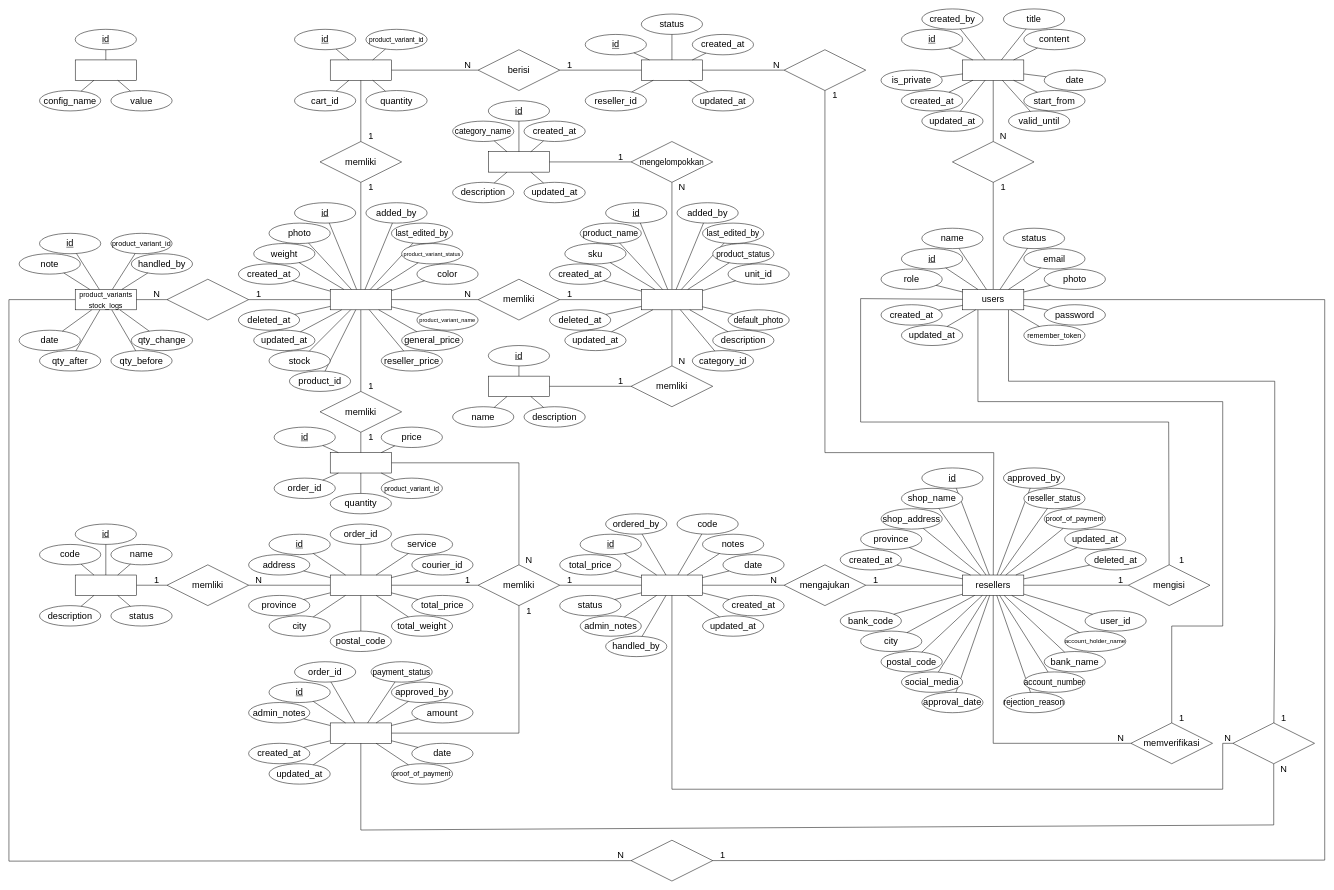
Image size: 1334x890. Some labels were removed from this diagram. Each missing label, with the centre of its shape:
announcements: [993,69]
cart_details: [360,69]
carts: [672,69]
categories: [519,161]
configurations: [105,69]
couriers: [105,585]
membuat: [993,161]
memiliki: [208,299]
mencatat: [672,860]
menyetujui: [1273,743]
menyimpan: [825,70]
order_details: [360,462]
order_payments: [360,732]
order_shippings: [360,585]
orders: [672,585]
product_variants: [360,299]
products: [672,299]
units: [519,386]
